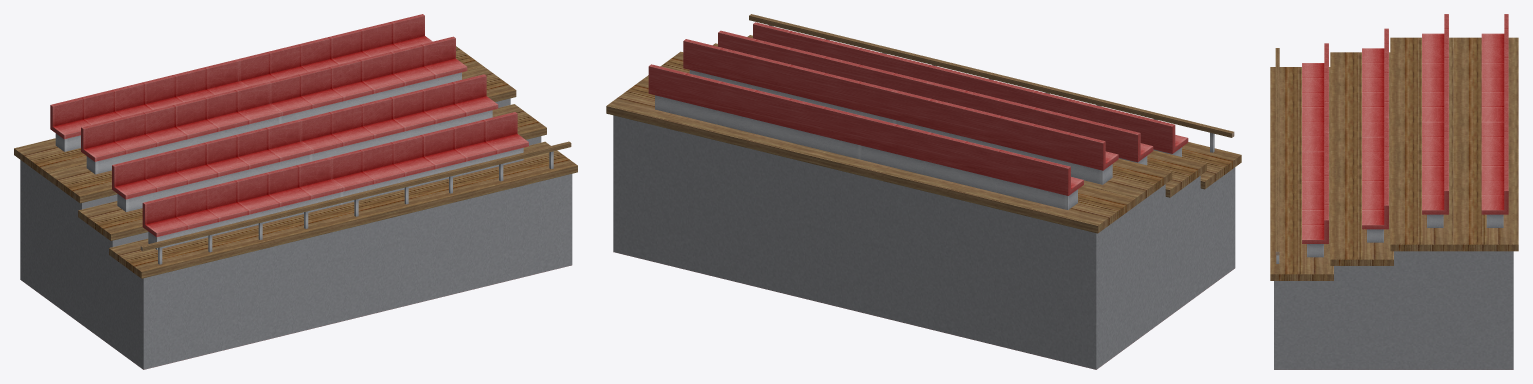
File: Low_Chair.FBX
3 renders of one model, left to right at view 1: azimuth 30°, elevation 25°; view 2: azimuth 150°, elevation 25°; view 3: azimuth 270°, elevation 25°, orthographic. The views are drawn at different scales.
Parts seen in each view (by area): view 1: Low_Chair; view 2: Low_Chair; view 3: Low_Chair.
Boxes of the visible parts, left/top/right/bottom form: Low_Chair: left=14, top=14, right=577, bottom=369; Low_Chair: left=606, top=14, right=1241, bottom=369; Low_Chair: left=1270, top=14, right=1518, bottom=369.
Bounding box in the file's own units: 711 × 265 × 360.
